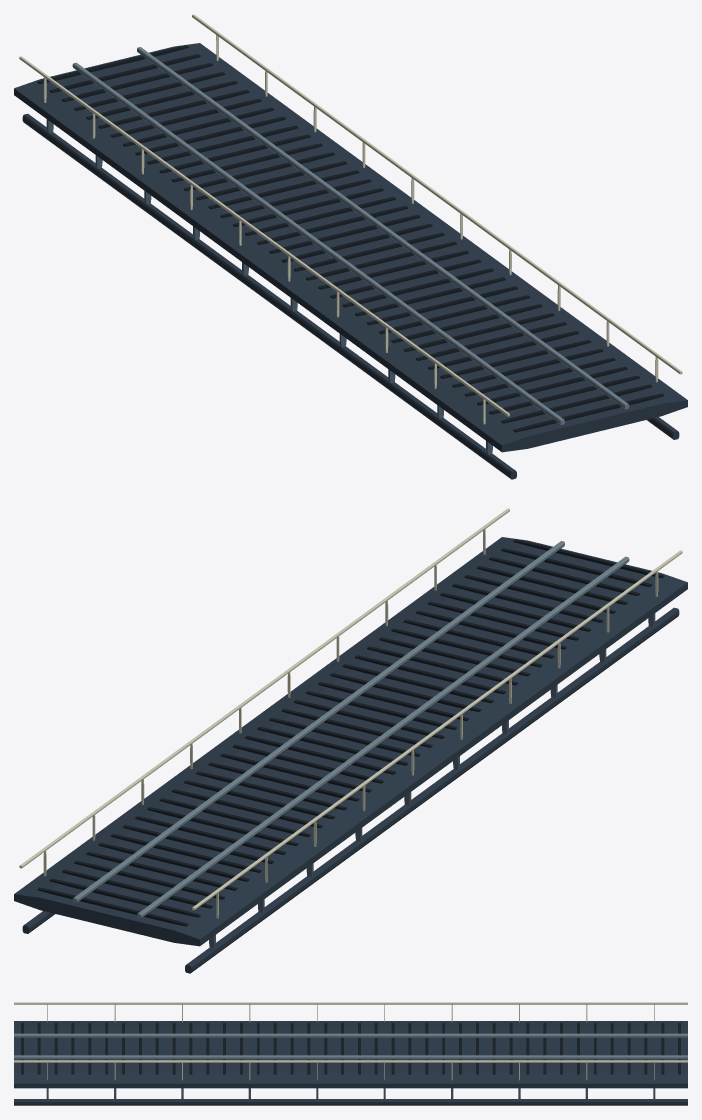
The model's file is BridgeEscapeSpan.obj.
3 views of the same model, one above another, from view 1: azimuth 30°, elevation 25°; view 2: azimuth 150°, elevation 25°; view 3: azimuth 270°, elevation 25° (orthographic). The views are drawn at different scales.
Visible parts, largest first — view 1: deck, rail_tie, rail_head, truss_chord, hand_rail, guard_post, truss_post; view 2: deck, rail_tie, rail_head, truss_chord, hand_rail, guard_post, truss_post; view 3: deck, rail_head, rail_tie, truss_chord, hand_rail, guard_post, truss_post.
Part boxes in pixels (x1,y1,x2,y2): deck: [14, 43, 687, 452]; rail_tie: [37, 45, 664, 432]; rail_head: [72, 47, 629, 424]; truss_chord: [22, 113, 679, 479]; hand_rail: [19, 14, 682, 416]; guard_post: [43, 35, 658, 424]; truss_post: [46, 119, 492, 454]; deck: [14, 537, 687, 946]; rail_tie: [37, 539, 664, 926]; rail_head: [72, 541, 629, 918]; truss_chord: [22, 607, 679, 973]; hand_rail: [19, 508, 682, 910]; guard_post: [43, 529, 658, 918]; truss_post: [209, 613, 655, 948]; deck: [14, 1021, 687, 1088]; rail_head: [14, 1033, 687, 1059]; rail_tie: [21, 1023, 680, 1074]; truss_chord: [14, 1099, 687, 1105]; hand_rail: [14, 1002, 687, 1062]; guard_post: [47, 1004, 654, 1080]; truss_post: [46, 1088, 655, 1100].
Bounding box in the file's own units: 11 × 3.76 × 50.
